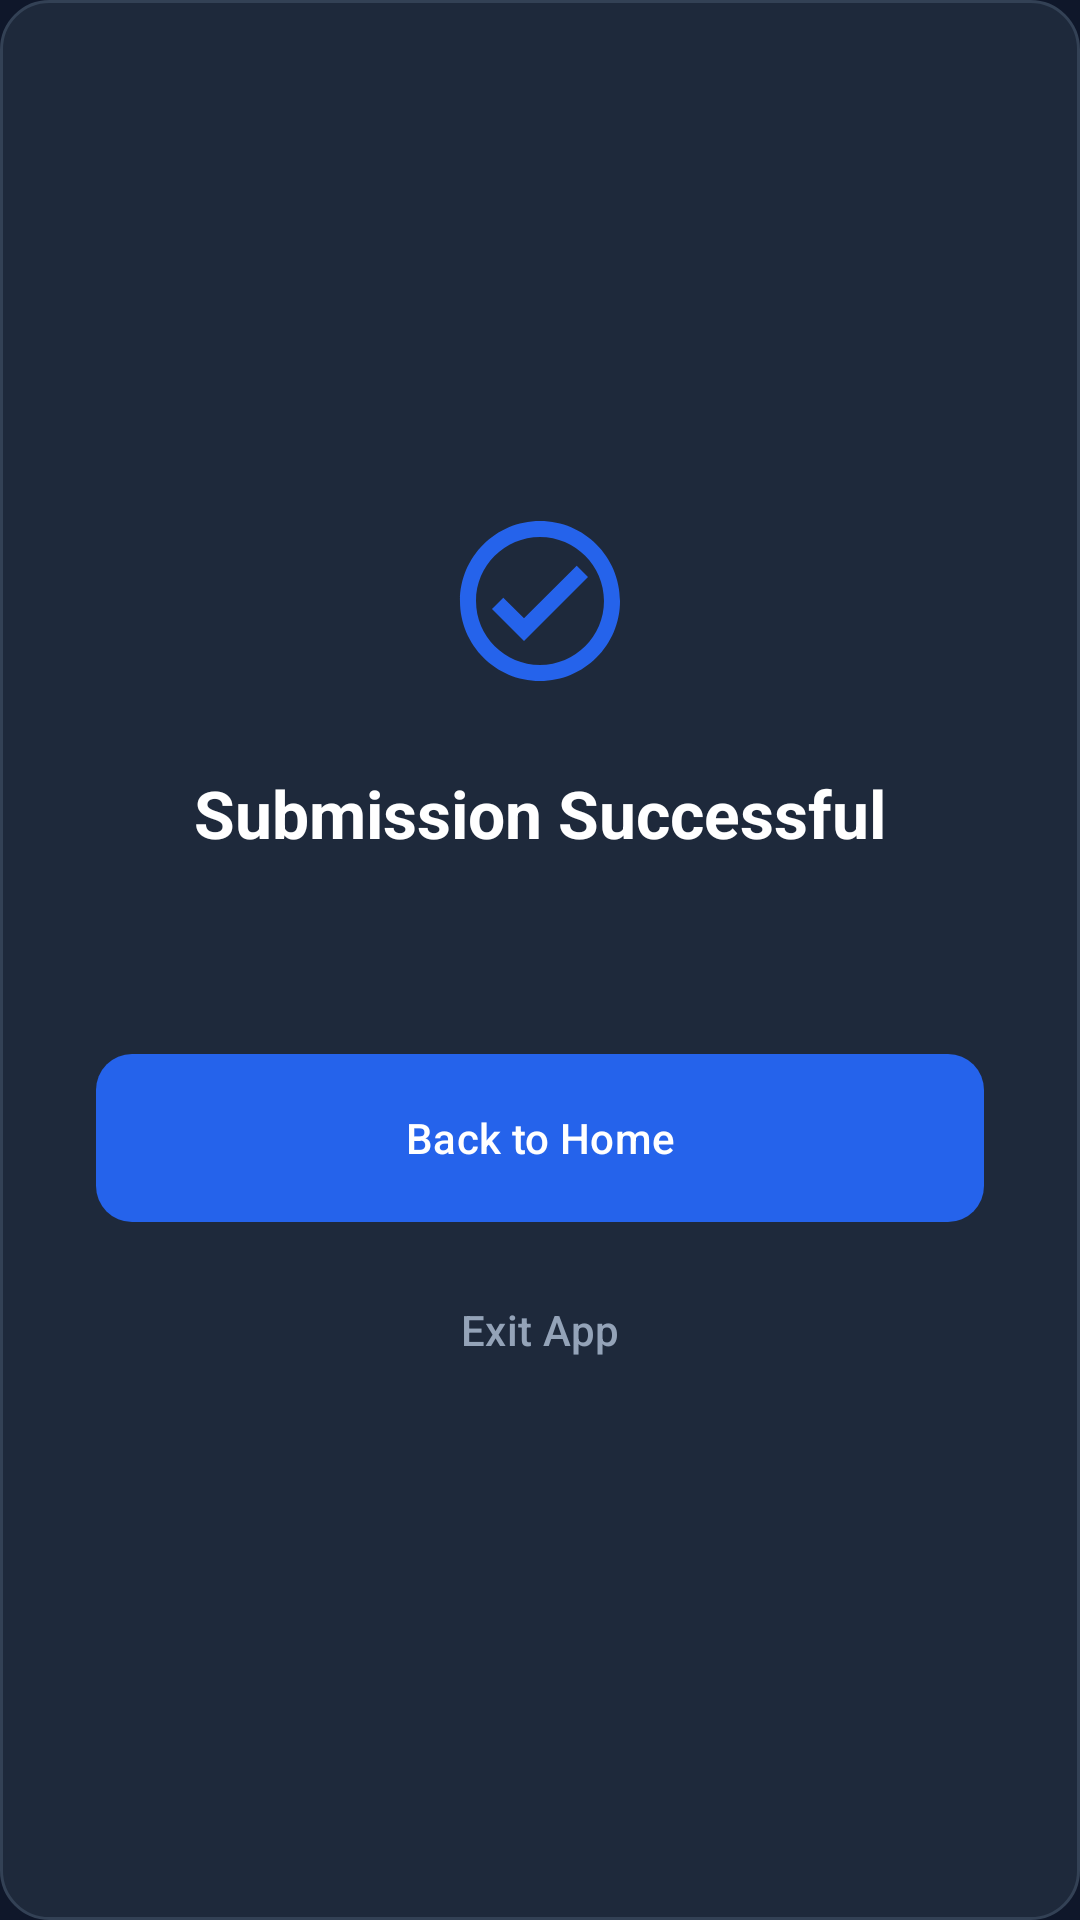

Where to tap for icons on this 1080×1920 app screen, as (x=x, y=y):
check circle: (x=540, y=601)
